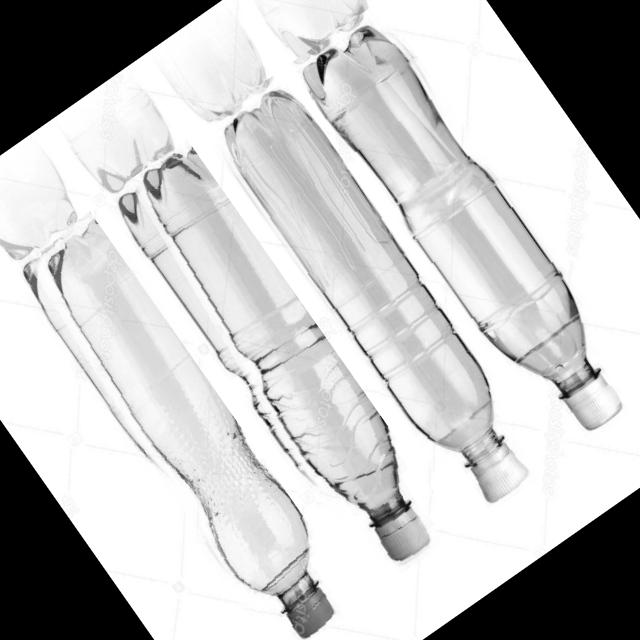plastic bottle: (191, 68, 556, 526), (98, 138, 461, 593), (286, 0, 640, 459), (0, 207, 362, 640)
